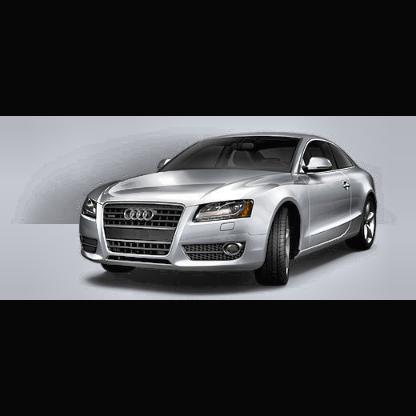Audi A5 Coupe 2012: (81, 133, 380, 289)
